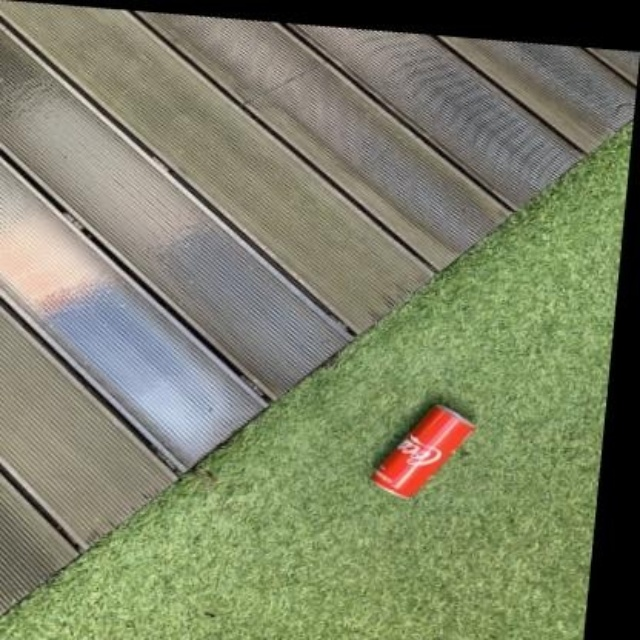trash: (372, 405, 474, 497)
